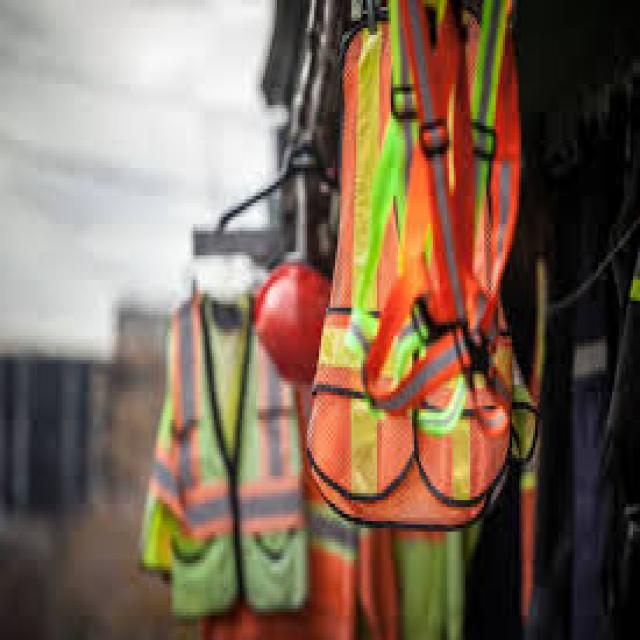Reflective-Jacket: (300, 4, 554, 504), (126, 287, 349, 636)
Safety-Helmet: (230, 248, 344, 399)
